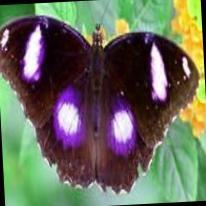butterfly: (0, 17, 199, 193)
